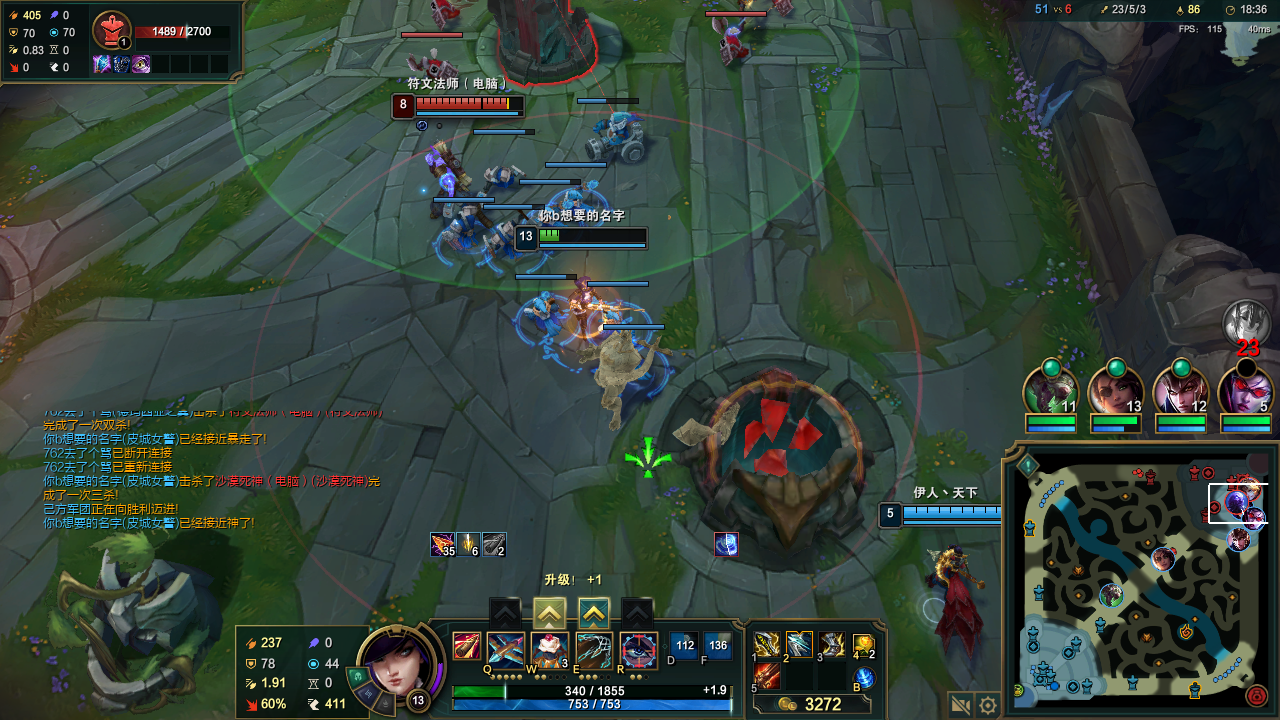DFXB: (409, 47, 451, 82), (712, 29, 751, 65), (426, 4, 462, 23)
DFYX: (410, 97, 521, 112)
WFXB: (585, 114, 645, 156), (444, 208, 487, 247), (599, 297, 634, 339), (480, 156, 527, 186), (493, 221, 524, 261), (524, 292, 556, 328), (636, 362, 663, 387)
